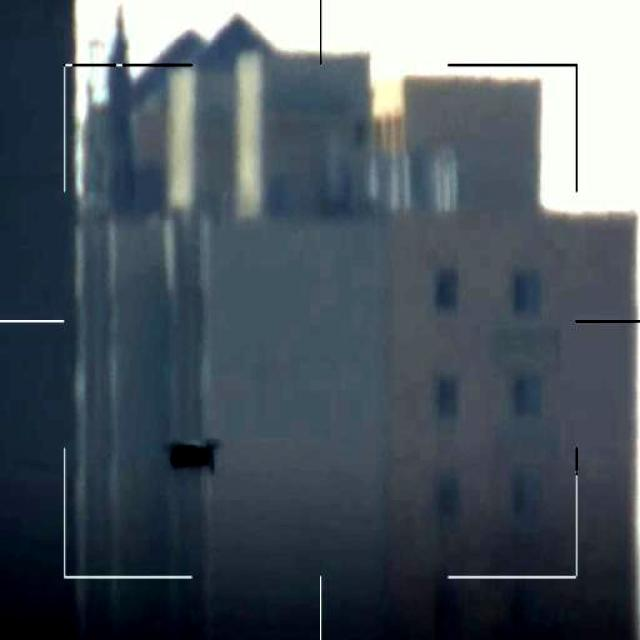bird: (168, 440, 216, 472)
